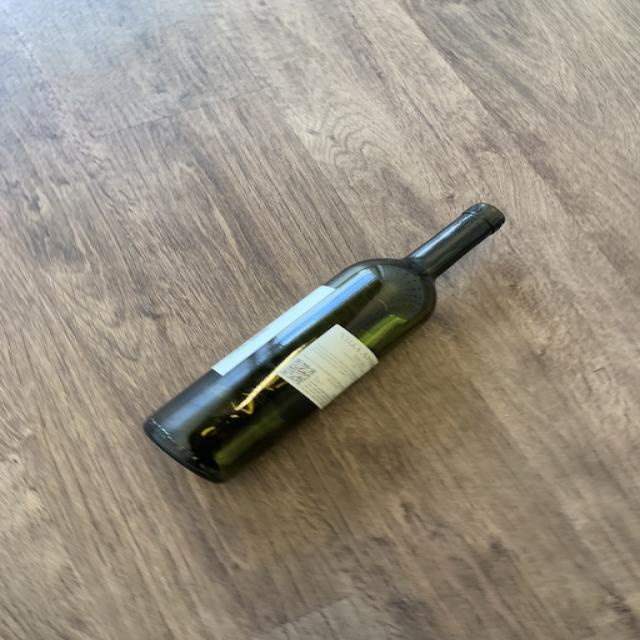litter: (134, 200, 506, 487)
